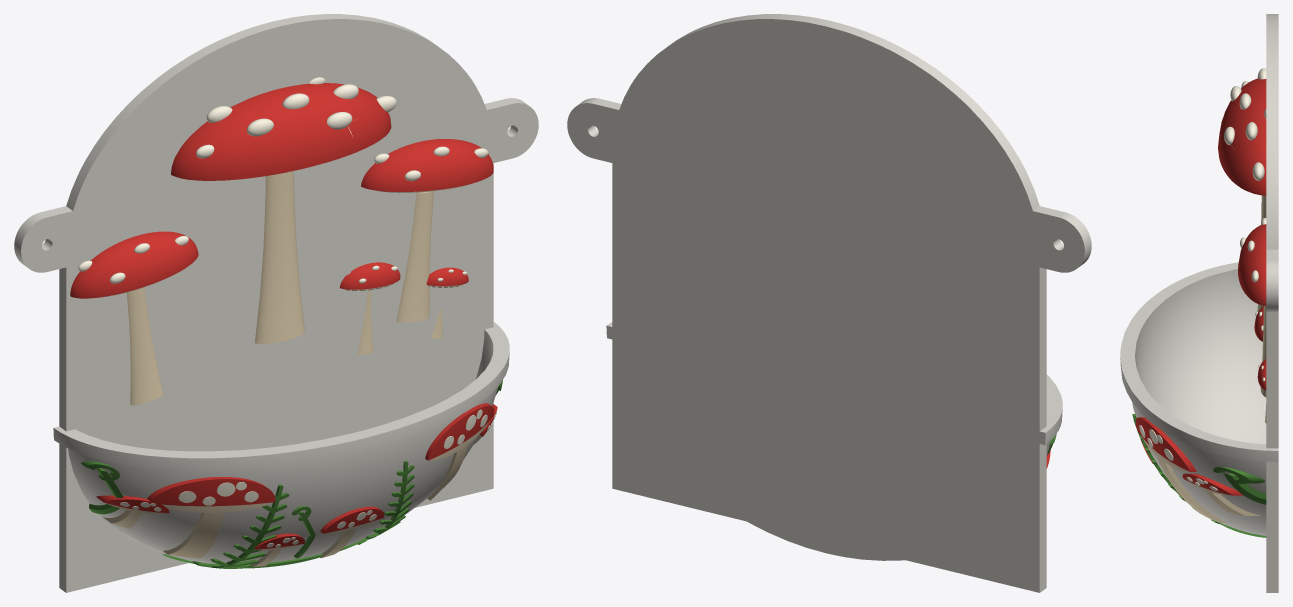
The model's file is mushroom_planter_plaque.glb.
3 renders of one model, left to right at view 1: azimuth 30°, elevation 25°; view 2: azimuth 150°, elevation 25°; view 3: azimuth 270°, elevation 25°, orthographic. The views are drawn at different scales.
Parts seen in each view (by area): view 1: mushroom_planter_plaque (×6); view 2: mushroom_planter_plaque; view 3: mushroom_planter_plaque (×6).
Part boxes in pixels (<box>): mushroom_planter_plaque (×6): <box>14,14,538,592</box>; mushroom_planter_plaque: <box>567,14,1091,592</box>; mushroom_planter_plaque (×6): <box>1120,14,1278,592</box>.
Size of the model in its own units: 0.218 by 0.2126 by 0.0645.
